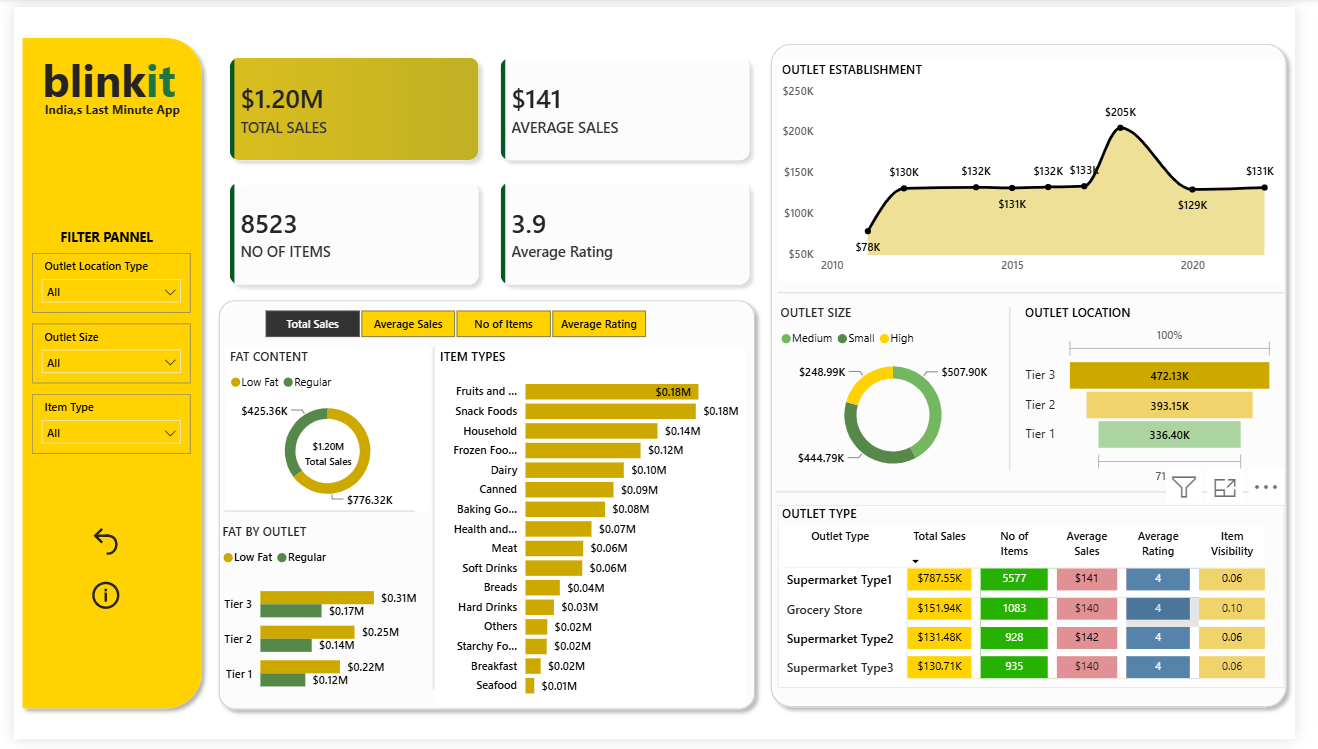

The dashboard page shown, as its layout file describes it:
{"tool":"powerbi","page":{"name":"Page 1","canvas":[1400,800],"ordinal":0},"visuals":[{"type":"shape","box":[0,24.5,214.3,751],"z":0},{"type":"textbox","box":[25.5,41.2,188.2,86.3],"z":1000},{"type":"textbox","box":[25.5,96.1,162.7,31.4],"z":2000},{"type":"cardVisual","fields":{"Data":["Table1.Total Sales","Table1.Average Sales","Table1.No of Items","Table1.Average Rating"]},"box":[205.9,25.5,627.5,307.8],"z":3000},{"type":"shape","box":[214.3,312.2,604.1,465.3],"z":4000},{"type":"donutChart","title":"FAT CONTENT","fields":{"Y":["Table1.Total Sales"],"Category":["Table1.Item Fat Content"]},"box":[230.6,371.4,222.4,179.6],"z":5000},{"type":"slicer","fields":{"Values":["Matrix.Matrix"]},"box":[248.4,324.6,465.4,43.1],"z":6000},{"type":"cardVisual","fields":{"Data":["Table1.Total Sales"]},"box":[287.8,455.1,110.2,65.3],"z":7000},{"type":"clusteredBarChart","title":"FAT BY OUTLET","fields":{"Y":["Table1.Total Sales"],"Category":["Table1.Outlet Location Type"],"Series":["Table1.Item Fat Content"]},"box":[223.3,563.3,221.7,200],"z":8000},{"type":"shape","box":[230,540,208.3,23.3],"z":9000},{"type":"shape","box":[438.3,371.7,41.7,373.3],"z":10000},{"type":"barChart","title":"ITEM TYPES","fields":{"Y":["Table1.Total Sales"],"Category":["Table1.Item Type"]},"box":[460.2,372.3,338.8,391.5],"z":11000},{"type":"shape","box":[818.1,32,581.6,743],"z":12000},{"type":"lineChart","title":"OUTLET ESTABLISHMENT","fields":{"Category":["Table1.Outlet Establishment Year"],"Y":["Table1.Total Sales"]},"box":[834.7,59.2,551,240.8],"z":13000},{"type":"shape","box":[832.7,520.4,549,20.4],"z":14000},{"type":"donutChart","title":"OUTLET SIZE","fields":{"Category":["Table1.Outlet Size"],"Y":["Table1.Total Sales"]},"box":[832.7,324.5,255.1,195.9],"z":15000},{"type":"shape","box":[1069.4,328.6,38.8,179.6],"z":16000},{"type":"funnel","title":"OUTLET LOCATION","fields":{"Y":["Sum(Table1.Sales)"],"Category":["Table1.Outlet Location Type"]},"box":[1100,324.5,281.6,202],"z":17000},{"type":"shape","box":[834.7,300,553.1,24.5],"z":18000},{"type":"pivotTable","title":"OUTLET TYPE","fields":{"Rows":["Table1.Outlet Type"],"Values":["Table1.Total Sales","Table1.No of Items","Table1.Average Sales","Table1.Average Rating","Avg(Table1.Item Visibility)"]},"box":[834.7,544.9,553.1,200],"z":19000},{"type":"slicer","fields":{"Values":["Table1.Outlet Location Type"]},"box":[20,268.3,173.3,65],"z":20000},{"type":"slicer","fields":{"Values":["Table1.Outlet Size"]},"box":[20,346.7,173.3,65],"z":21000},{"type":"slicer","fields":{"Values":["Table1.Item Type"]},"box":[20,423.3,173.3,65],"z":22000},{"type":"textbox","box":[20,236.7,163.3,28.3],"z":23000},{"type":"actionButton","box":[80,563.3,40,40],"z":24000},{"type":"actionButton","box":[80,623.3,40,40],"z":25000}]}

Visuals, with their boxes in screenshot pixels (x1, y1, x2, y2), scaled from the page's 1400x800 canvas onto the 1318x749 screenshot:
shape: pyautogui.locateOnScreen(0, 23, 202, 726)
textbox: pyautogui.locateOnScreen(24, 39, 201, 119)
textbox: pyautogui.locateOnScreen(24, 90, 177, 119)
cardVisual - Table1.Total Sales x Table1.Average Sales: pyautogui.locateOnScreen(194, 24, 785, 312)
shape: pyautogui.locateOnScreen(202, 292, 770, 728)
"FAT CONTENT" donutChart: pyautogui.locateOnScreen(217, 348, 426, 516)
slicer - Matrix.Matrix: pyautogui.locateOnScreen(234, 304, 672, 344)
cardVisual - Table1.Total Sales: pyautogui.locateOnScreen(271, 426, 375, 487)
"FAT BY OUTLET" clusteredBarChart: pyautogui.locateOnScreen(210, 527, 419, 715)
shape: pyautogui.locateOnScreen(217, 506, 413, 527)
shape: pyautogui.locateOnScreen(413, 348, 452, 698)
"ITEM TYPES" barChart: pyautogui.locateOnScreen(433, 349, 752, 715)
shape: pyautogui.locateOnScreen(770, 30, 1317, 726)
"OUTLET ESTABLISHMENT" lineChart: pyautogui.locateOnScreen(786, 55, 1305, 281)
shape: pyautogui.locateOnScreen(784, 487, 1301, 506)
"OUTLET SIZE" donutChart: pyautogui.locateOnScreen(784, 304, 1024, 487)
shape: pyautogui.locateOnScreen(1007, 308, 1043, 476)
"OUTLET LOCATION" funnel: pyautogui.locateOnScreen(1036, 304, 1301, 493)
shape: pyautogui.locateOnScreen(786, 281, 1307, 304)
"OUTLET TYPE" pivotTable: pyautogui.locateOnScreen(786, 510, 1307, 697)
slicer - Table1.Outlet Location Type: pyautogui.locateOnScreen(19, 251, 182, 312)
slicer - Table1.Outlet Size: pyautogui.locateOnScreen(19, 325, 182, 385)
slicer - Table1.Item Type: pyautogui.locateOnScreen(19, 396, 182, 457)
textbox: pyautogui.locateOnScreen(19, 222, 173, 248)
actionButton: pyautogui.locateOnScreen(75, 527, 113, 565)
actionButton: pyautogui.locateOnScreen(75, 584, 113, 621)
